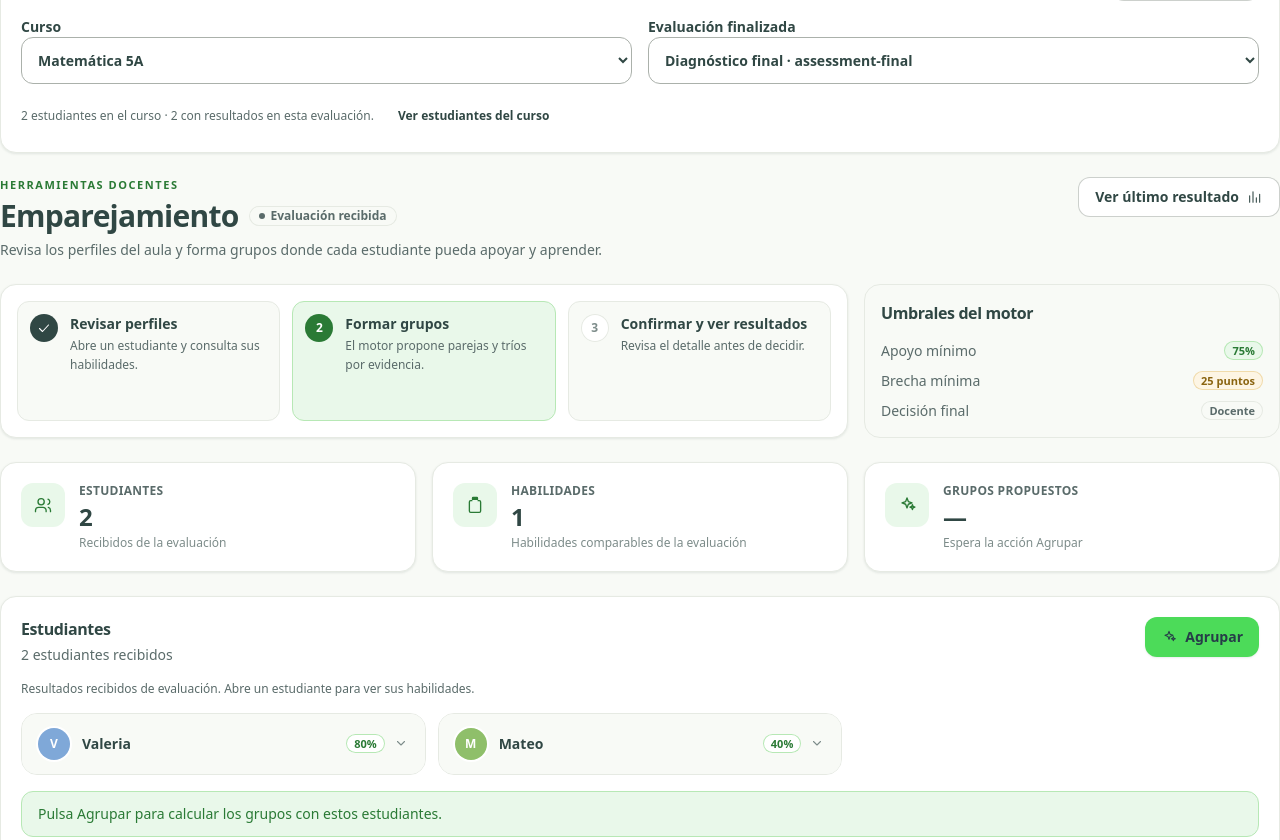
Scenario: evaluación → grupos → salas → sesión privada › si falla la confirmación conserva los grupos y permite reintentar sin inventar salas
Expected: the text "2 estudiantes recibidos" is shown, [21,644,173,664]
Click the button "Agrupar".
click(1202, 636)  # box [1145,616,1259,656]
(page scrolled)
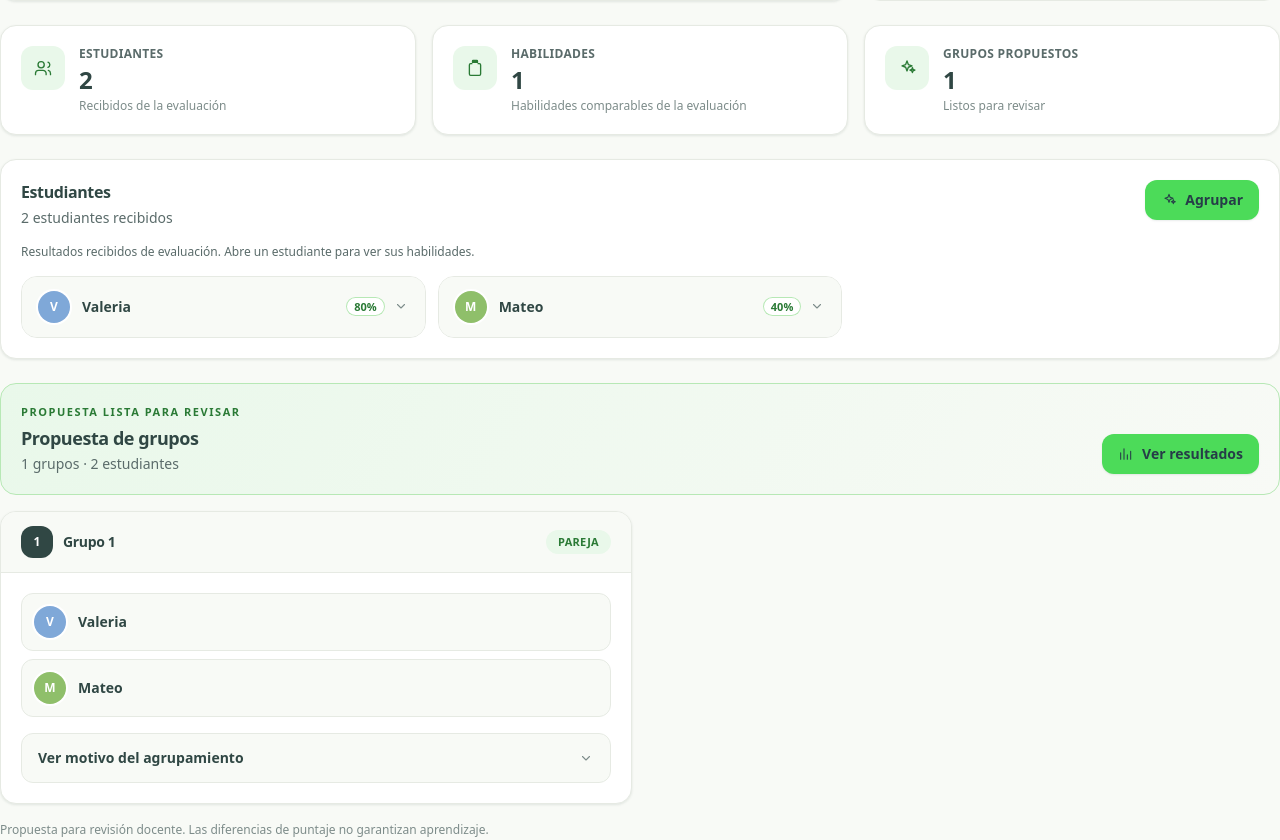
Result: the heading "Propuesta de grupos" is shown at [21,426,198,450]
Click the link "Ver resultados".
click(1181, 454)  # box [1102,434,1259,474]
(page scrolled)
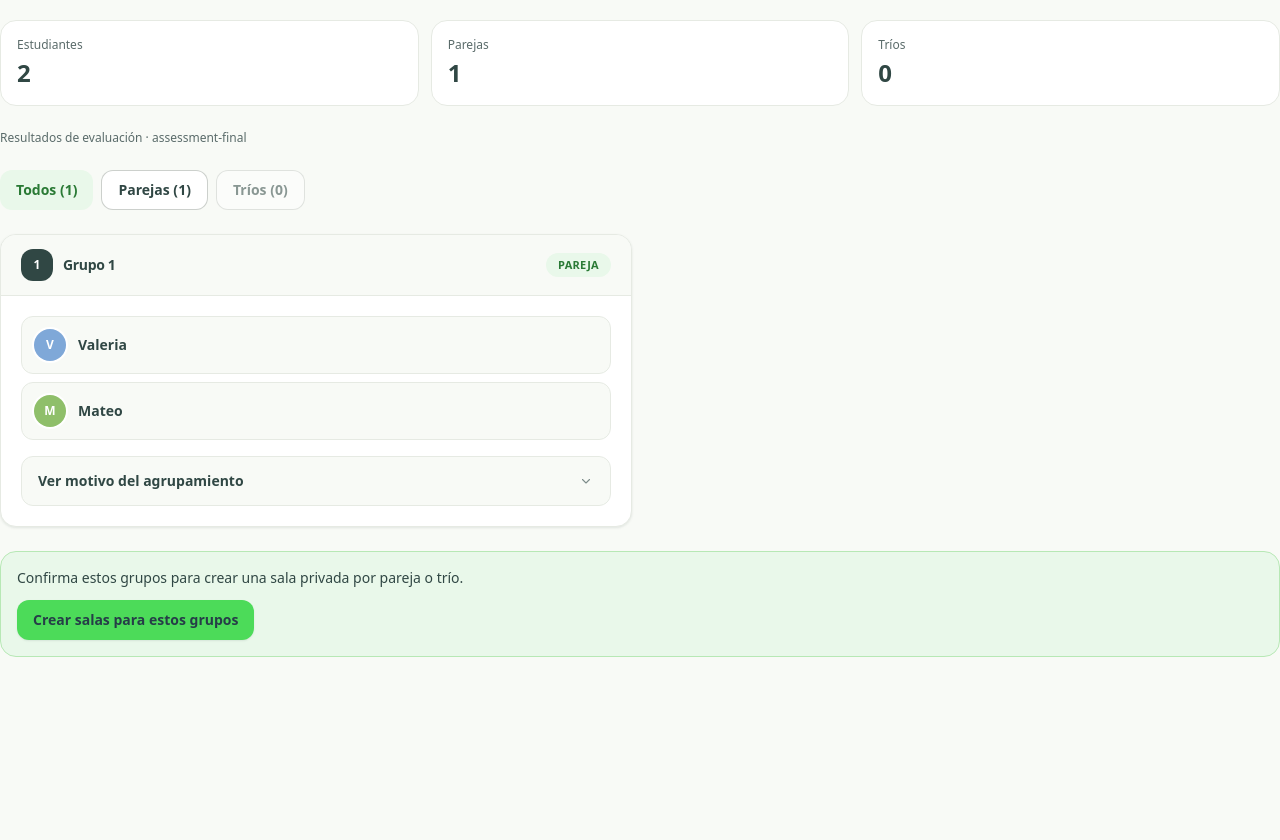
Click the button "Crear salas para estos grupos".
click(136, 620)  # box [17,600,254,640]
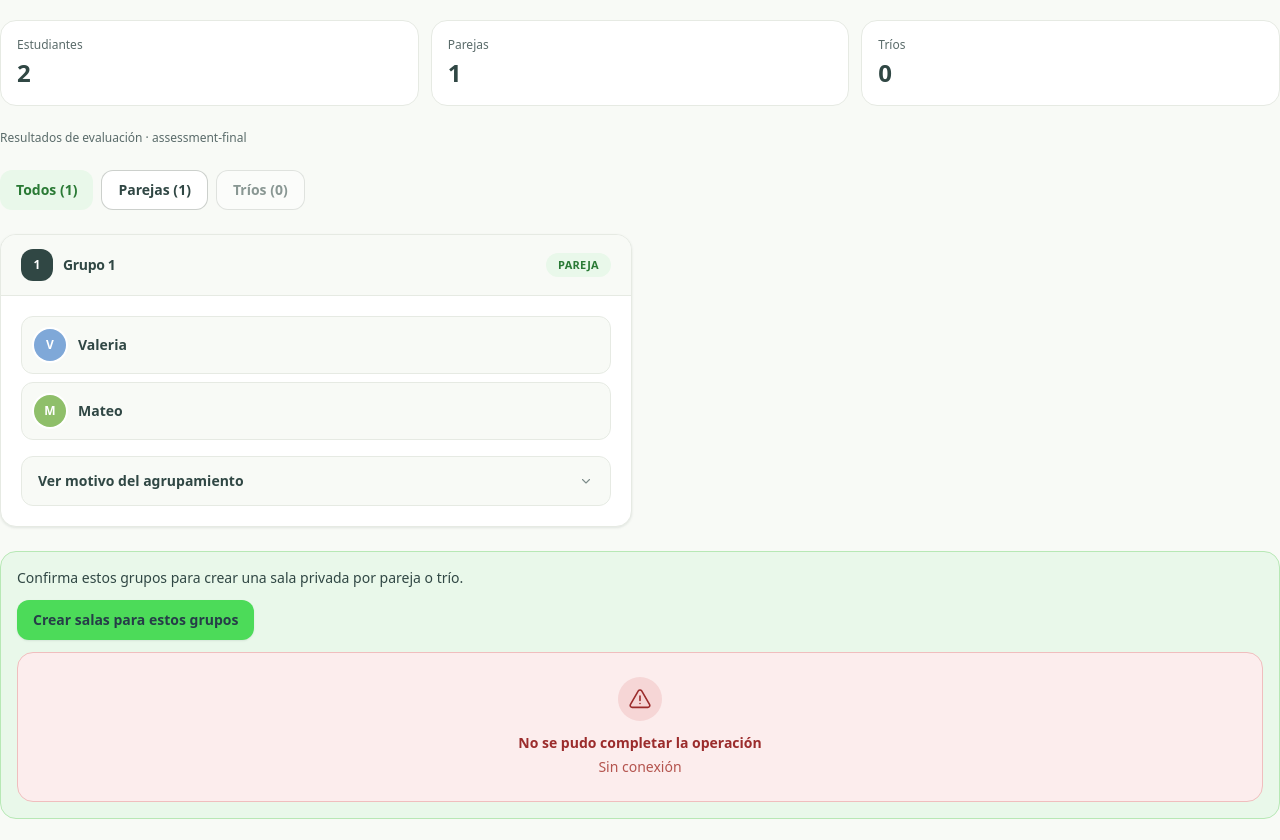
Expected: the text "Valeria" is shown, [78,335,127,355]
Result: the text "Sin conexión" is shown at [598,757,682,776]
Click the button "Crear salas para estos grupos".
click(136, 620)  # box [17,600,254,640]
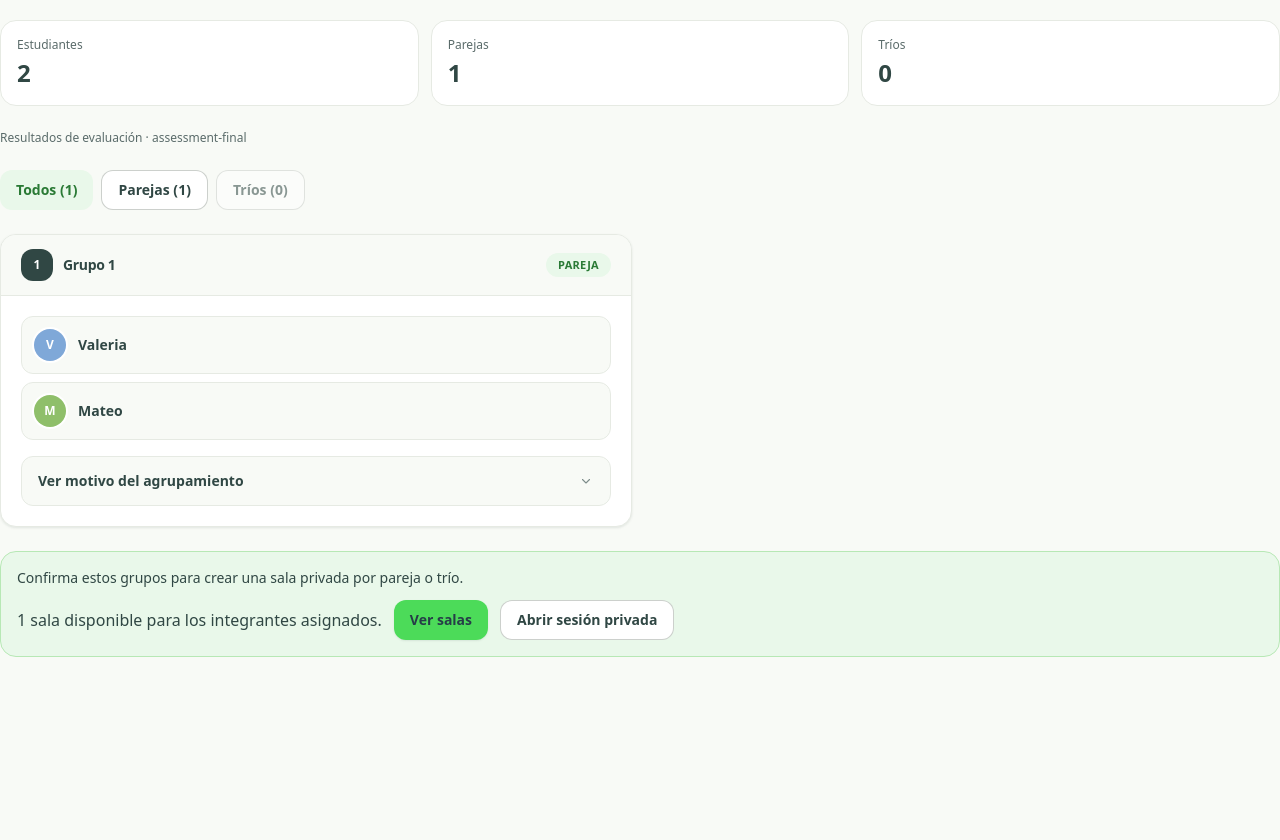
Result: the link "Ver salas" is shown at [394,600,488,640]
